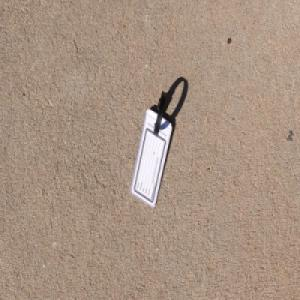LuggageTag: (128, 88, 172, 211)
